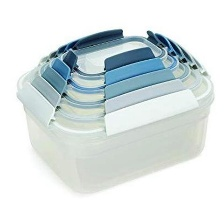plastic_box: (11, 20, 221, 200)
